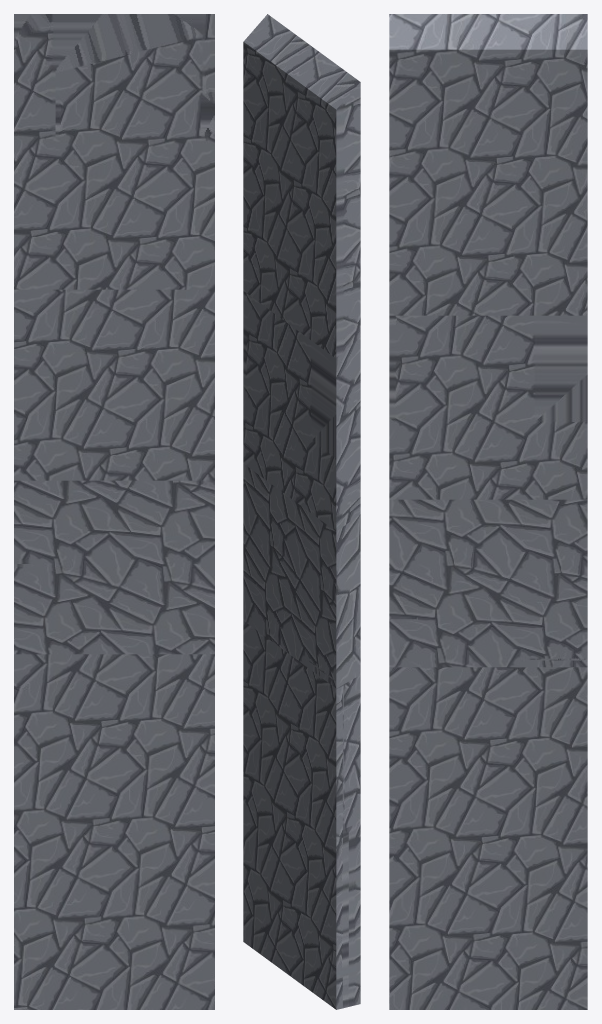
Rendered from paredDer.fbx.
3 views of the same model, side by side, from view 1: azimuth 90°, elevation 25°; view 2: azimuth 210°, elevation 25°; view 3: azimuth 270°, elevation 25° (orthographic). The views are drawn at different scales.
Parts seen in each view (by area): view 1: pared2; view 2: pared2; view 3: pared2.
Boxes of the visible parts, box(x1,y1,x2,y2) form: pared2: box(14, 14, 214, 1009); pared2: box(243, 14, 360, 1009); pared2: box(389, 14, 587, 1009).
Size of the model in its own units: 3.45 by 126 by 23.
